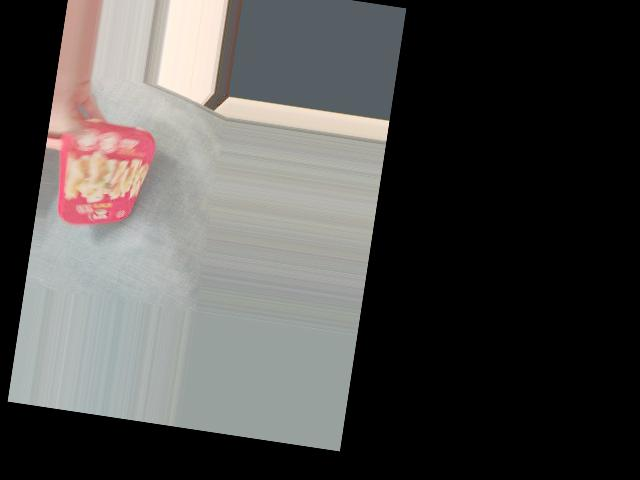cheese: (50, 110, 154, 232)
